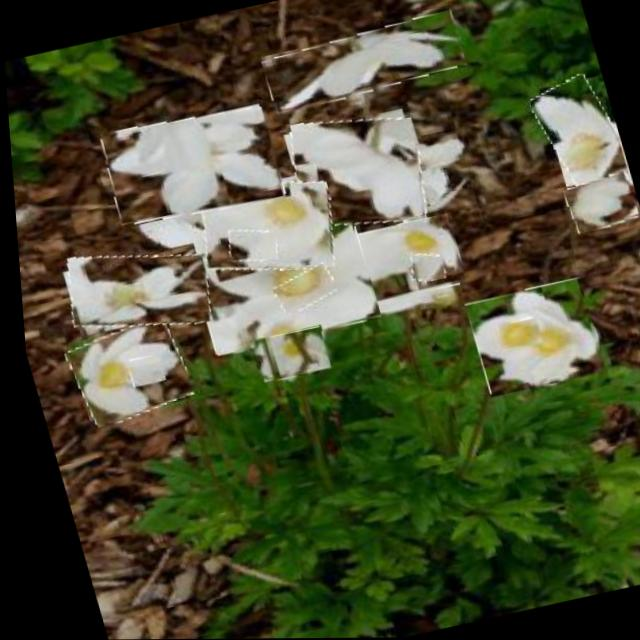Flower: (180, 218, 380, 358), (93, 101, 286, 232), (256, 12, 472, 114), (274, 104, 435, 240), (186, 164, 344, 288), (458, 278, 604, 399), (53, 235, 214, 344), (56, 316, 191, 427), (527, 72, 631, 207), (342, 213, 464, 307), (559, 172, 638, 234), (246, 325, 328, 384), (266, 265, 336, 314), (222, 223, 278, 266), (490, 317, 540, 353), (120, 353, 163, 389), (402, 250, 444, 284)
